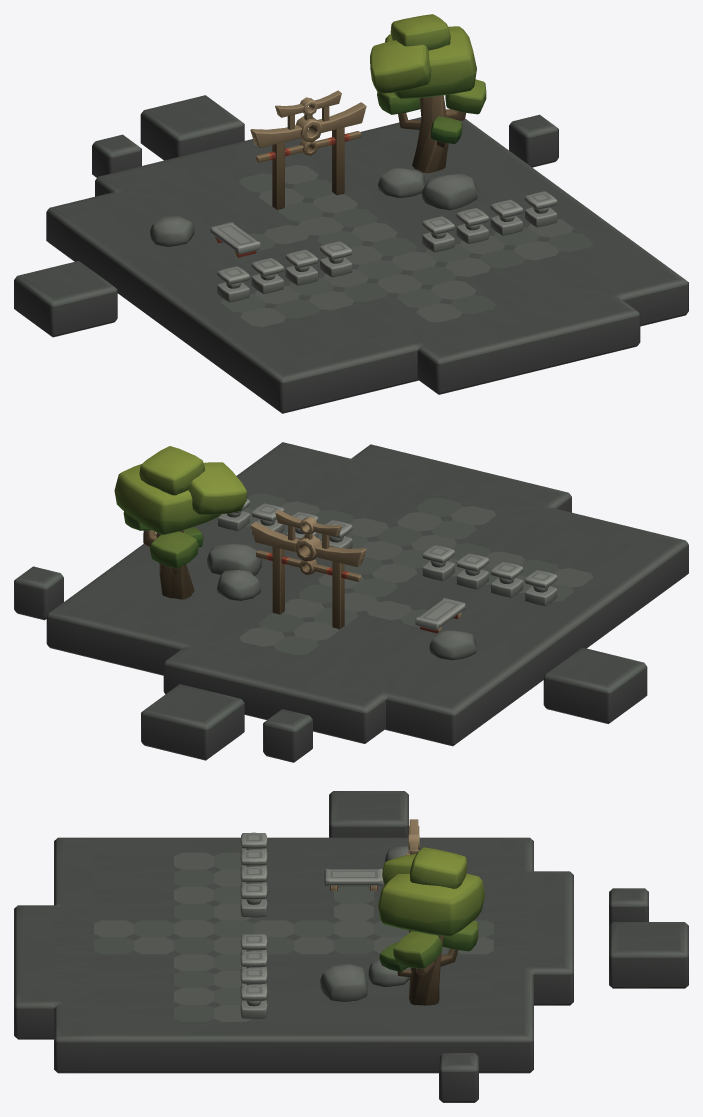
The model's file is sample_level.fbx.
The picture shows the model from 3 angles, top to bottom: view 1: azimuth 30°, elevation 25°; view 2: azimuth 150°, elevation 25°; view 3: azimuth 270°, elevation 25°; orthographic projection.
Parts seen in each view (by area): view 1: sample_level; view 2: sample_level; view 3: sample_level.
Boxes of the visible parts, bbox=[...] form: sample_level: bbox=[14, 14, 688, 413]; sample_level: bbox=[14, 442, 688, 762]; sample_level: bbox=[14, 791, 688, 1102].
Bounding box in the file's own units: 3300 × 991 × 3375.
1 material, 1 textured.
